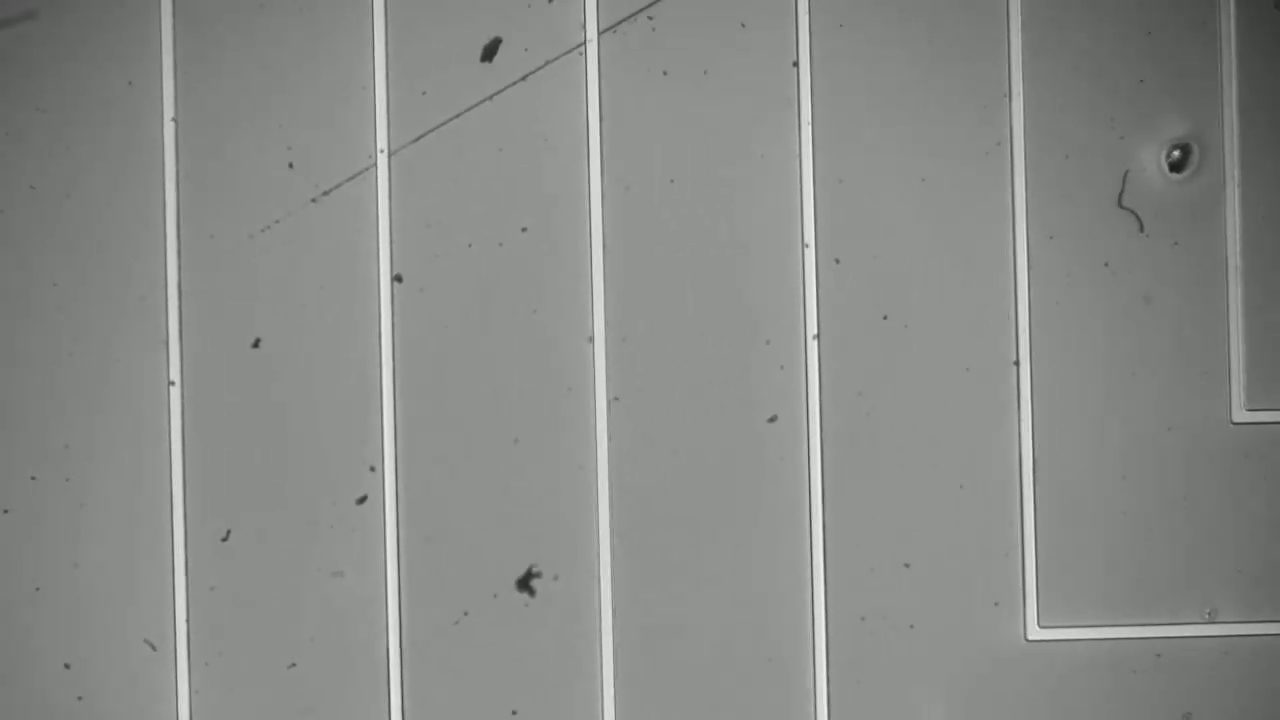scratch: (247, 1, 677, 236)
